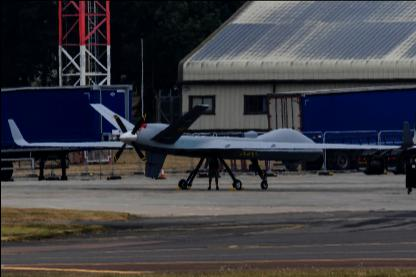MQ9: (6, 103, 412, 188)
